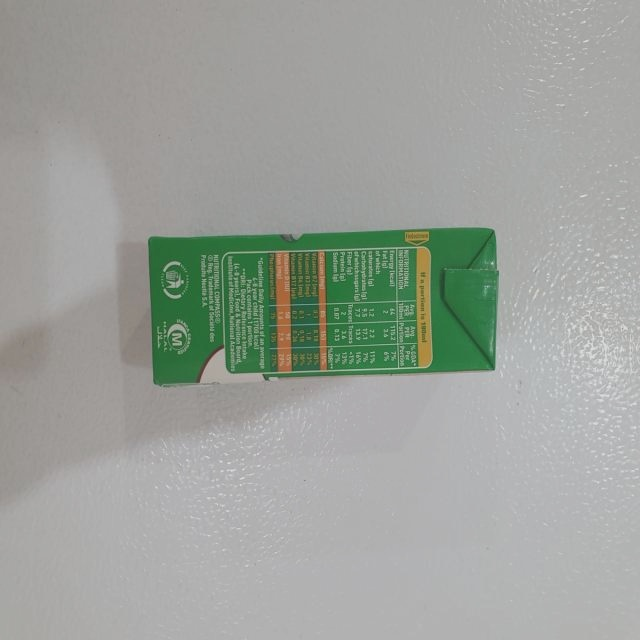milo-180ml: (152, 236, 493, 382)
